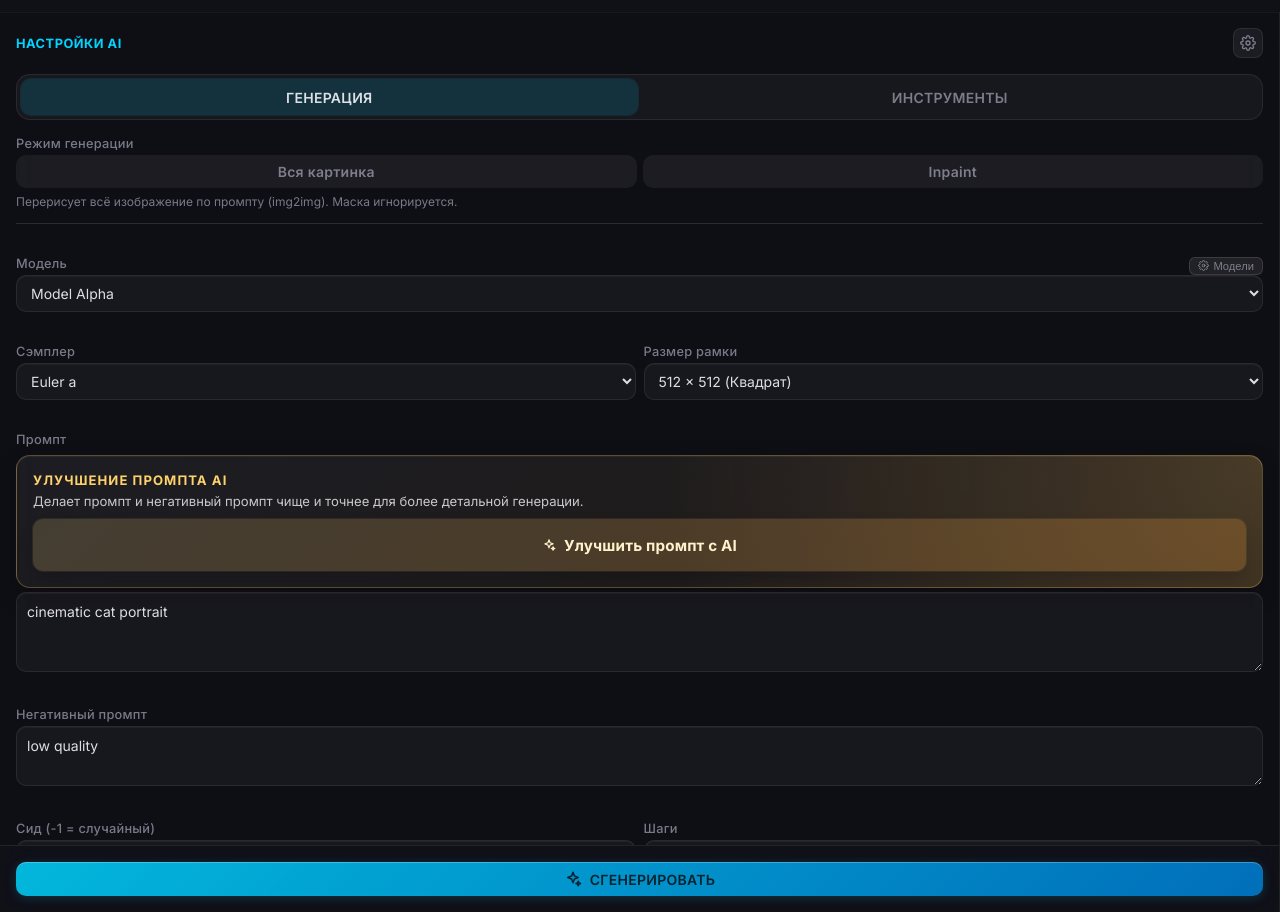
Test: Sidebar › панель опций выделения видна в режиме волшебной палочки
What coordinates should you click on to do the following:
click the tab "Инструменты"
I would click on:
 (950, 97)
Its box is [642,79,1258,115].
(page scrolled)
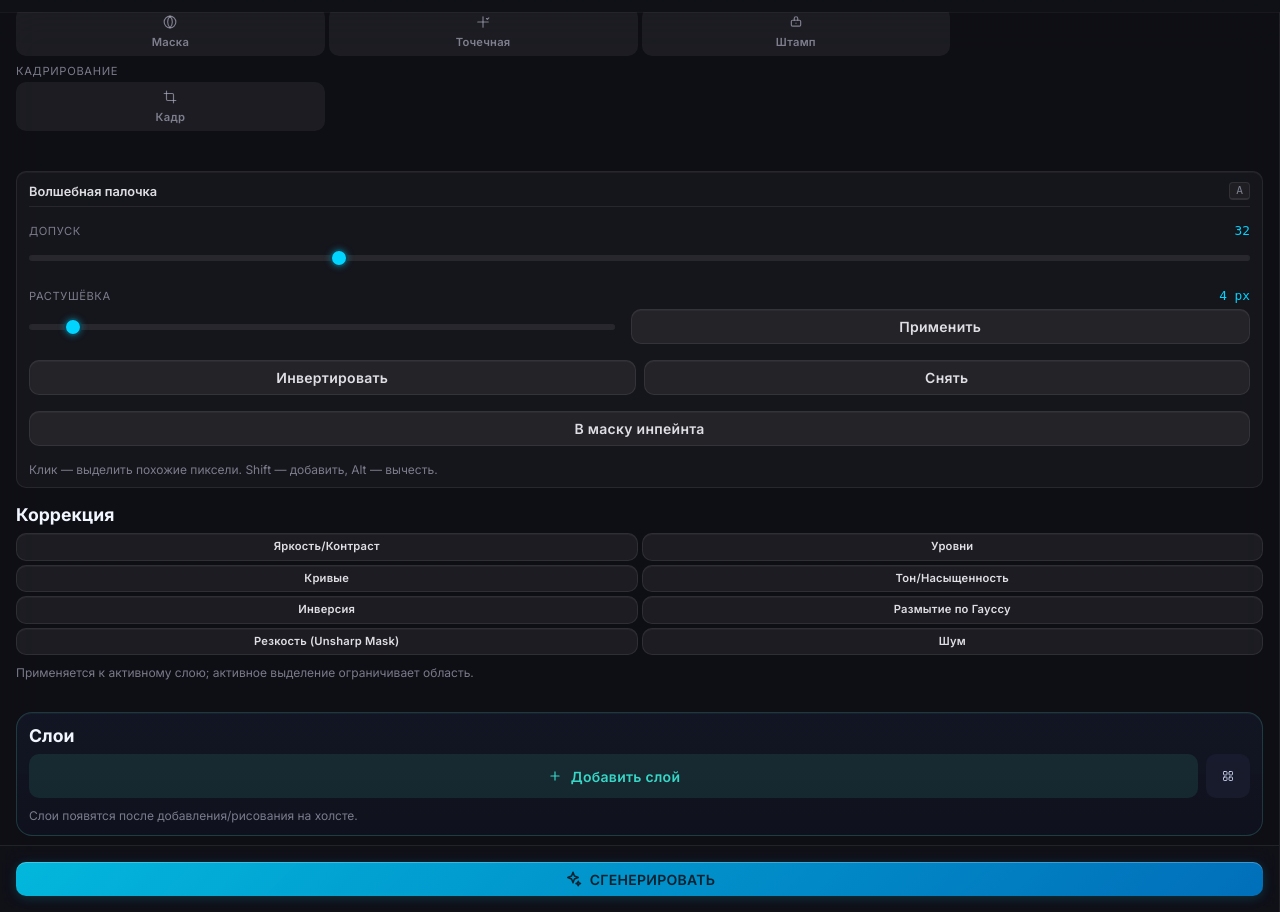
Expected: the text "Допуск" is shown, [29,224,81,238]
Expected: the button "Инвертировать" is shown, [29,360,636,395]
Expected: the button "В маску инпейнта" is shown, [29,411,1250,446]
